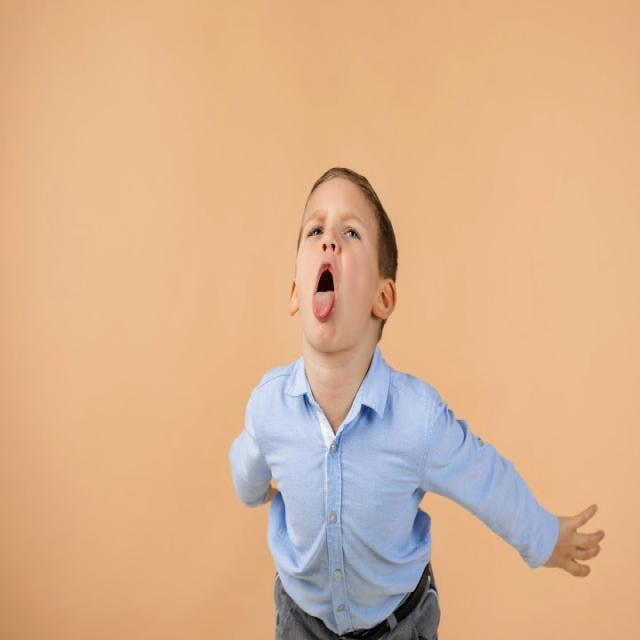child: (224, 157, 605, 640)
